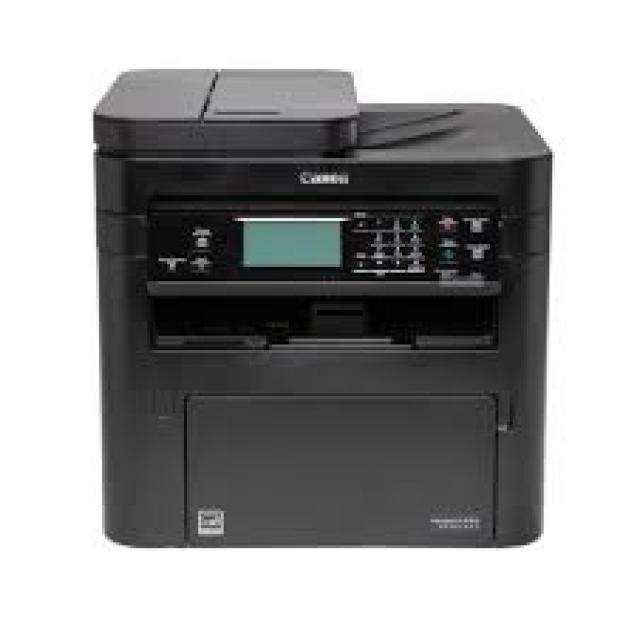printer: (91, 63, 552, 548)
